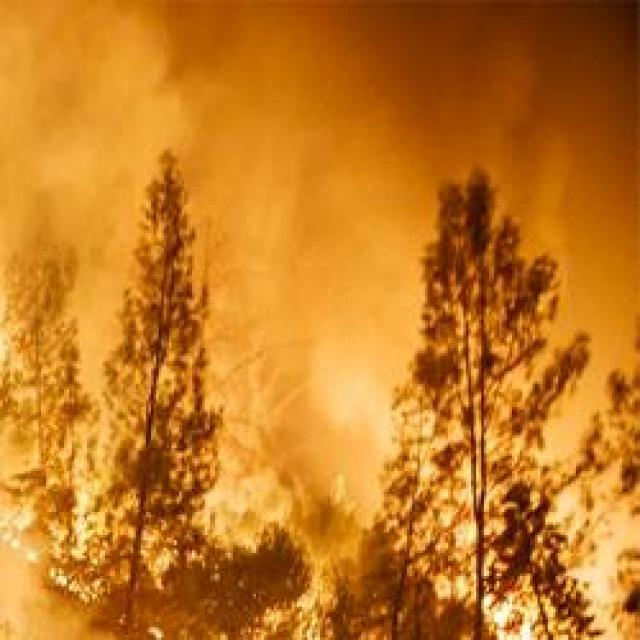fire: (17, 173, 579, 635)
